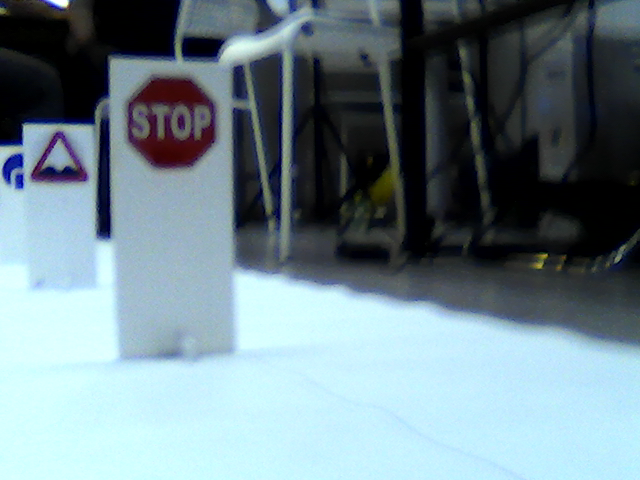Nerov: (27, 131, 89, 185)
Stop: (127, 71, 216, 172)
